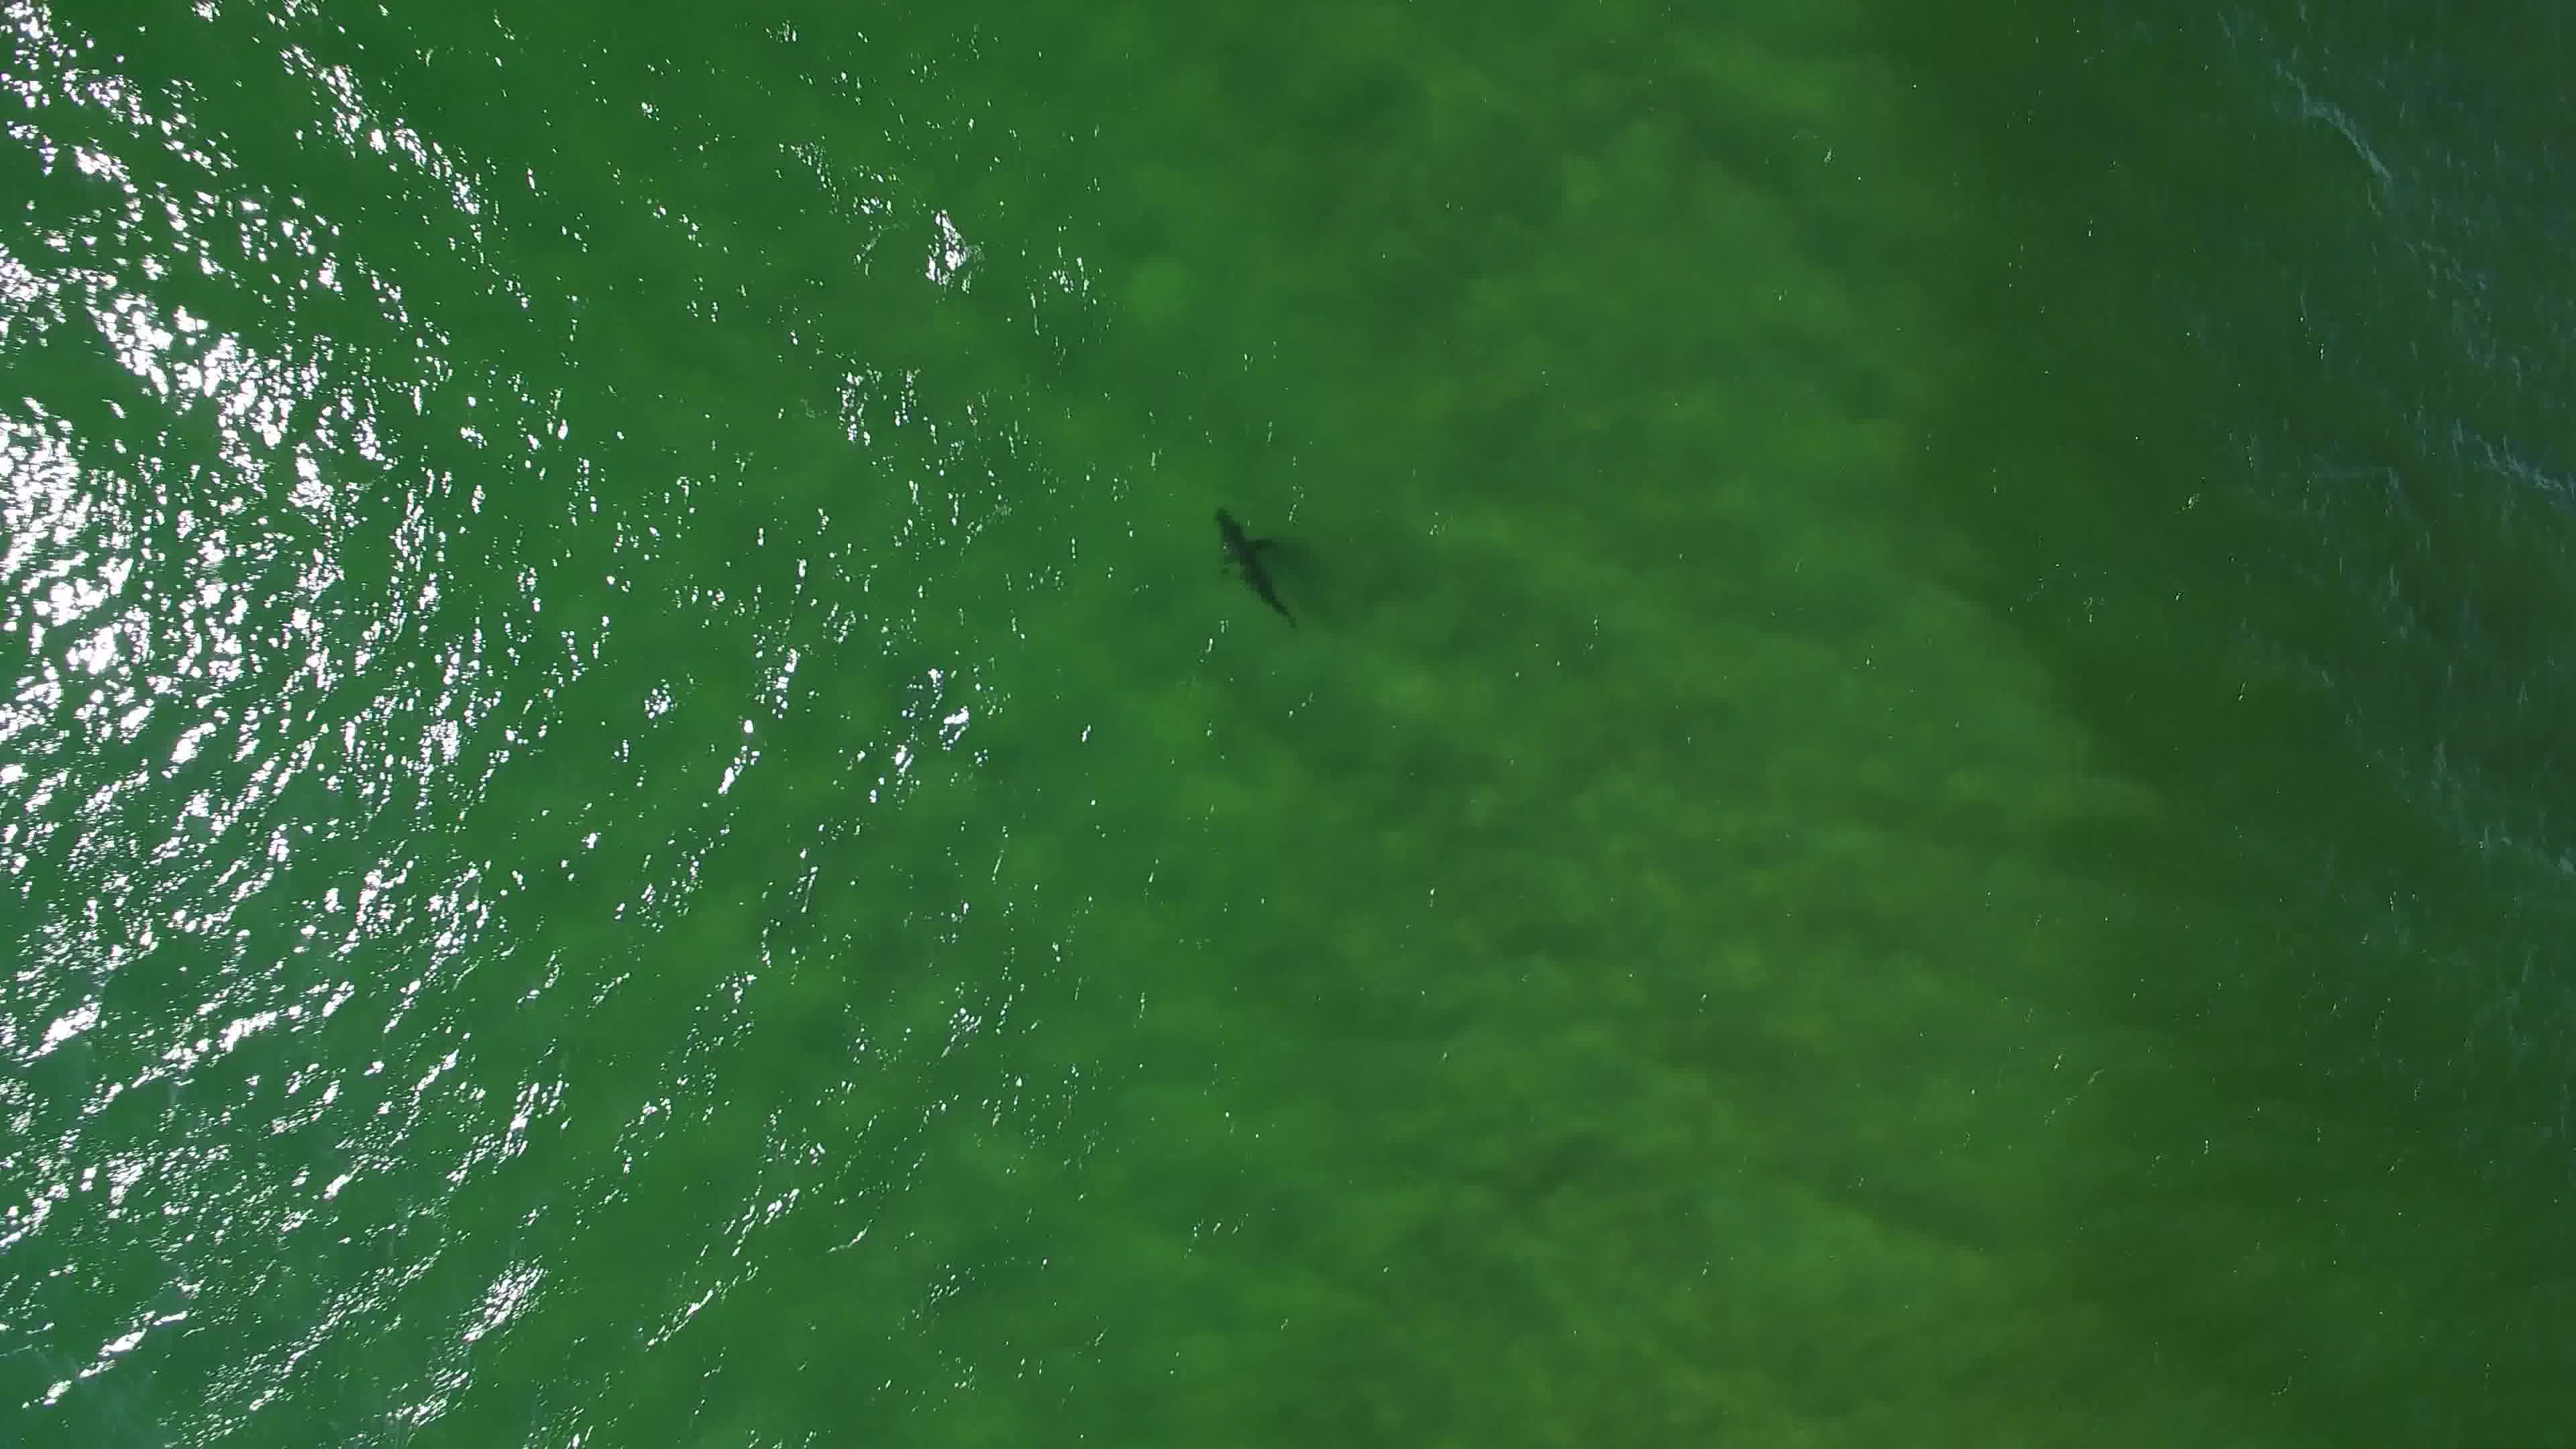shark: (1205, 506, 1304, 630)
